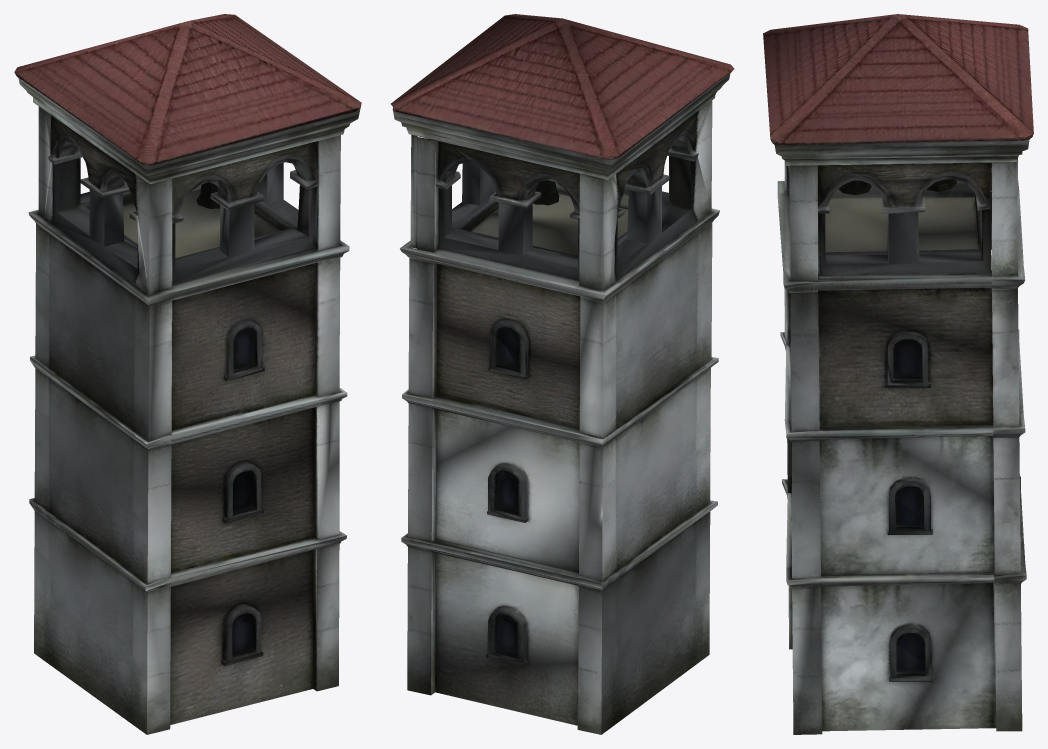
The model's file is belltower.glb.
The picture shows the model from 3 angles, left to right: view 1: azimuth 30°, elevation 25°; view 2: azimuth 150°, elevation 25°; view 3: azimuth 270°, elevation 25°; orthographic projection. The views are drawn at different scales.
Parts seen in each view (by area): view 1: model; view 2: model; view 3: model.
Part boxes in pixels (box(x1,y1,x2,y2)): model: box(14, 14, 361, 734); model: box(391, 14, 734, 734); model: box(763, 14, 1033, 734).
Size of the model in its own units: 0.3699 by 1 by 0.3659.
Materials: 1 (1 with a texture image).
